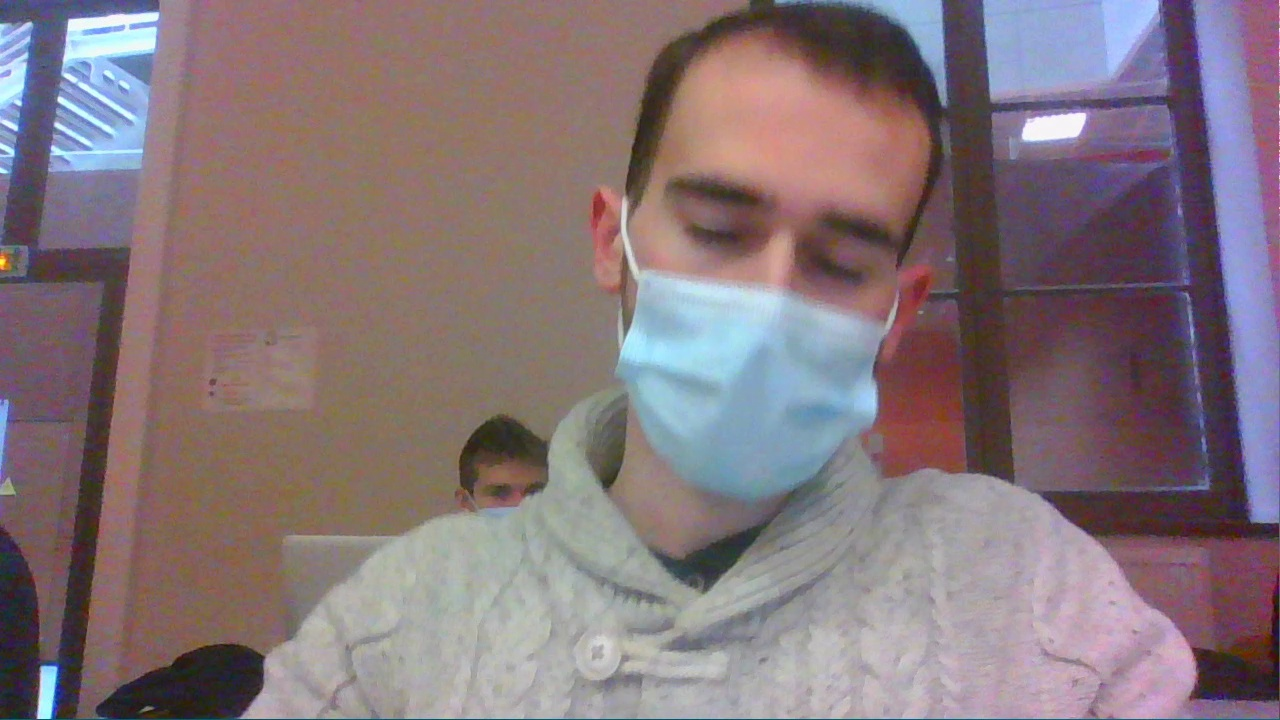mask: (571, 3, 923, 501)
